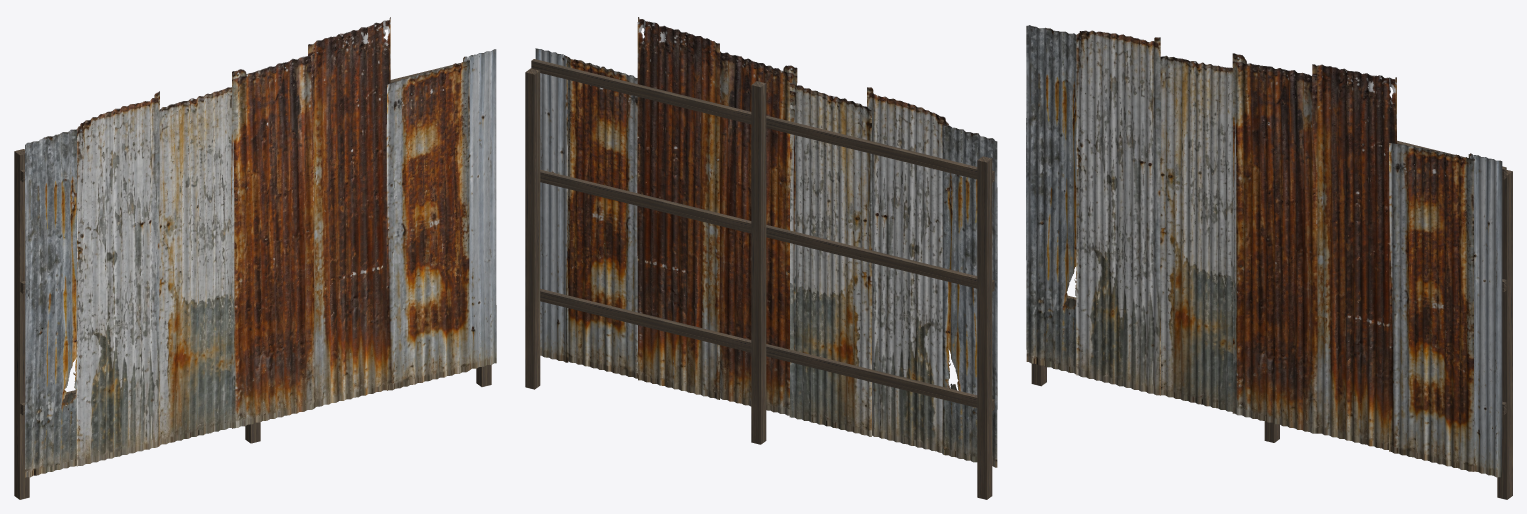
Rendered from pared_zinc_tramo_lod1.glb.
The picture shows the model from 3 angles, left to right: view 1: azimuth 30°, elevation 25°; view 2: azimuth 150°, elevation 25°; view 3: azimuth 330°, elevation 25°; orthographic projection. The views are drawn at different scales.
Parts seen in each view (by area): view 1: Pared_Zinc_tramo_LOD1; view 2: Pared_Zinc_tramo_LOD1; view 3: Pared_Zinc_tramo_LOD1.
Part boxes in pixels (<box>): Pared_Zinc_tramo_LOD1: <box>14,17,496,499</box>; Pared_Zinc_tramo_LOD1: <box>525,17,997,499</box>; Pared_Zinc_tramo_LOD1: <box>1026,25,1512,499</box>.
Bounding box in the file's own units: 4.87 × 3.94 × 0.2238.
Materials: 1 (1 with a texture image).
